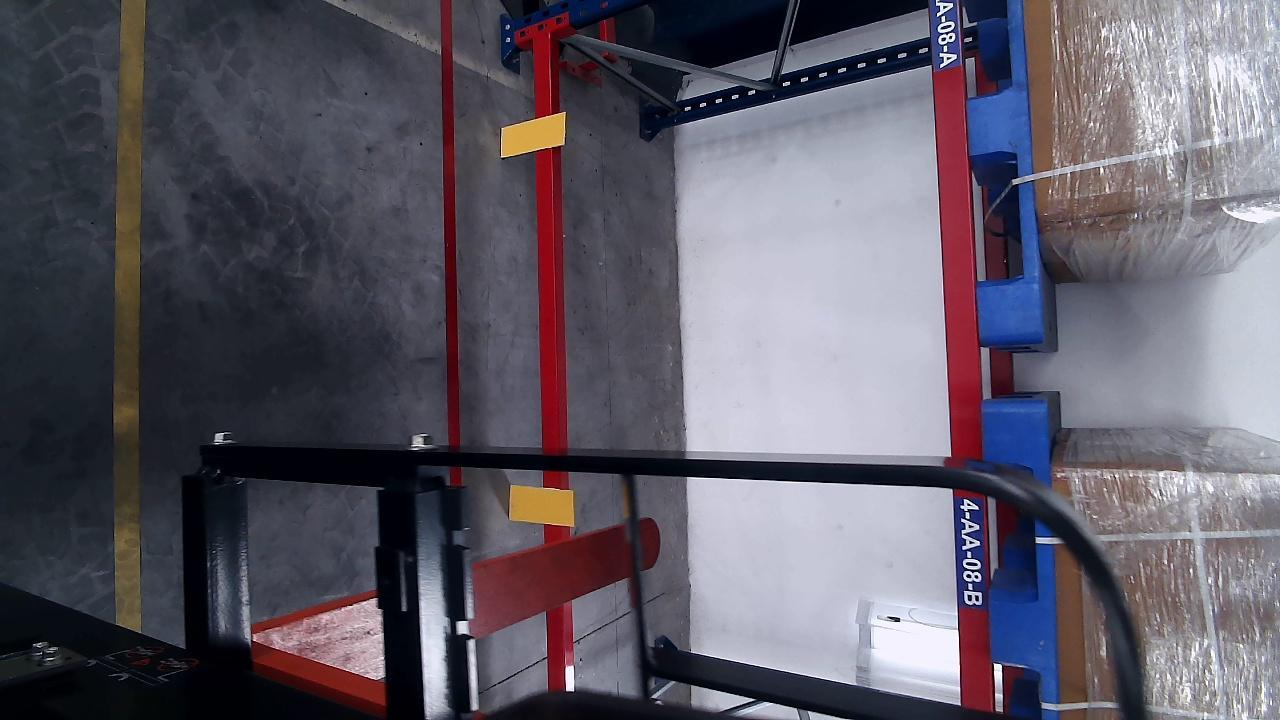h_rack: (929, 1, 994, 712), (531, 35, 570, 697)
orange_strip: (496, 114, 567, 157), (510, 483, 574, 527)
red_line: (438, 0, 462, 450)
small_pallet: (961, 0, 1049, 342)
yellow_line: (116, 0, 146, 632)
